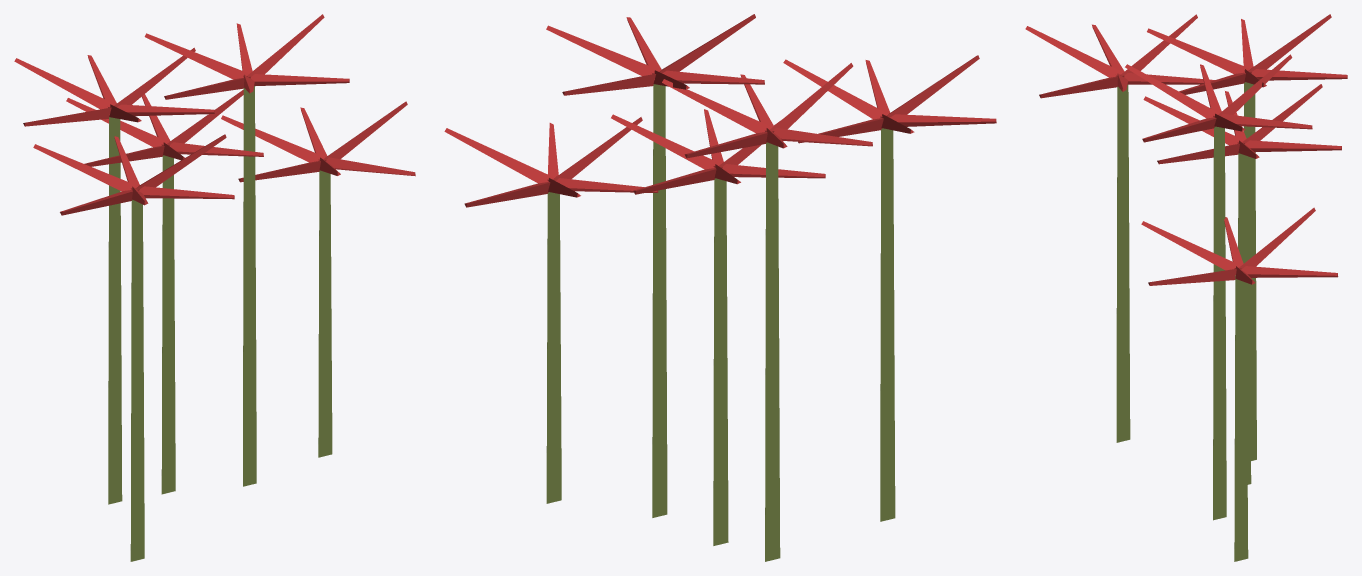
The model's file is cover_lily_red.glb.
The picture shows the model from 3 angles, left to right: view 1: azimuth 30°, elevation 25°; view 2: azimuth 150°, elevation 25°; view 3: azimuth 270°, elevation 25°; orthographic projection. The views are drawn at different scales.
Visible parts, largest first — view 1: cover_lily_red; view 2: cover_lily_red; view 3: cover_lily_red.
Part boxes in pixels (x1,y1,x2,y2): cover_lily_red: (14, 14, 415, 561); cover_lily_red: (444, 14, 996, 561); cover_lily_red: (1025, 14, 1347, 561).
Bounding box in the file's own units: 0.7946 × 0.7791 × 0.5272.
